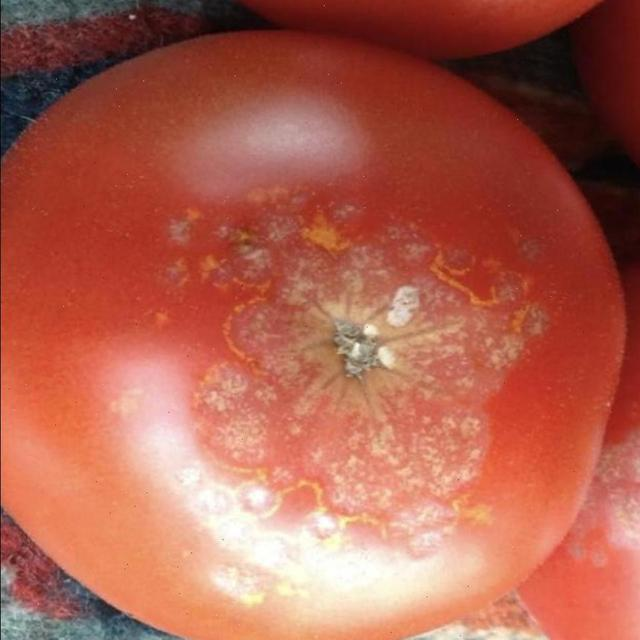Blossom End Rot Fruit: (99, 135, 371, 373)
